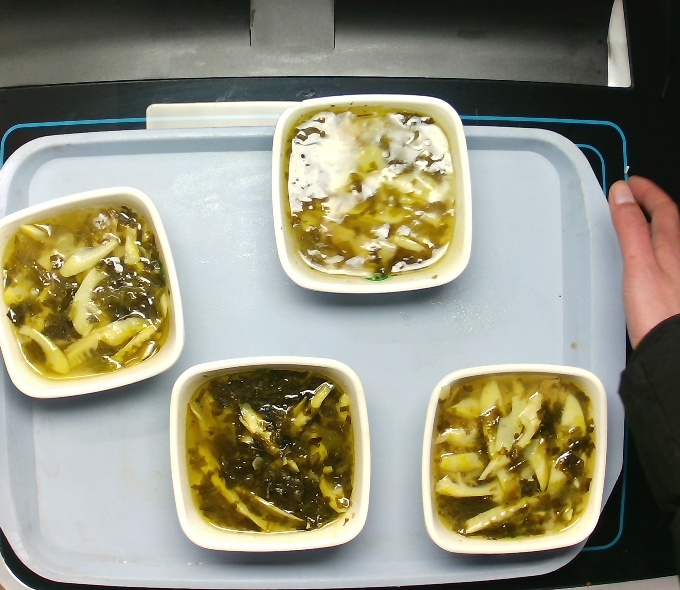wcq-DongSunTang: (279, 101, 461, 282), (1, 201, 174, 383), (183, 365, 361, 536), (428, 370, 601, 543)
